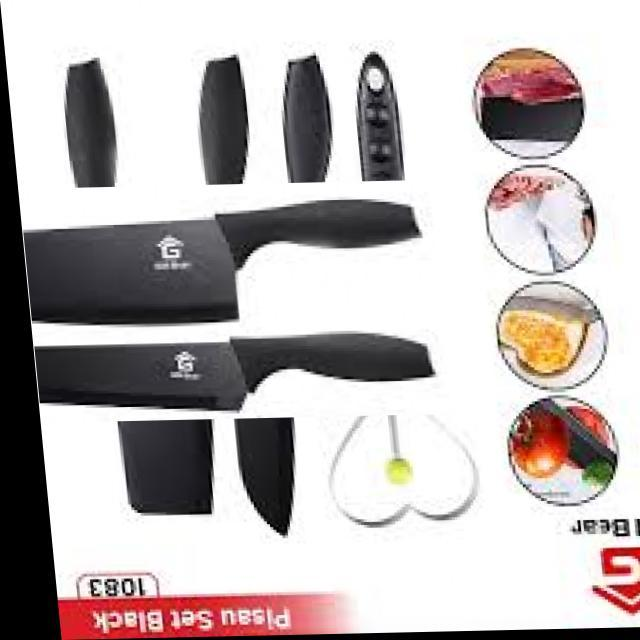knife: (8, 196, 424, 326), (36, 332, 434, 411)
